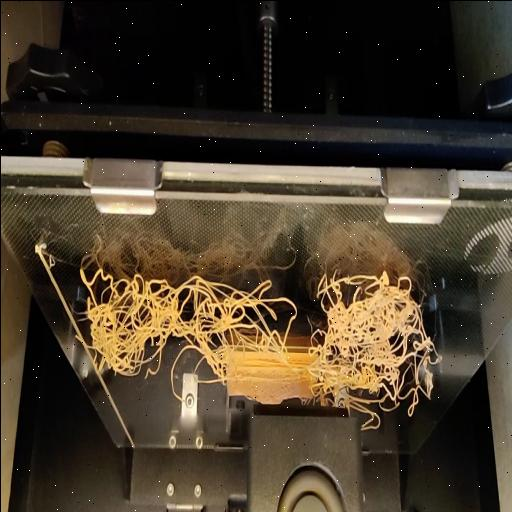spaghetti: (72, 259, 440, 409), (362, 406, 382, 432)
